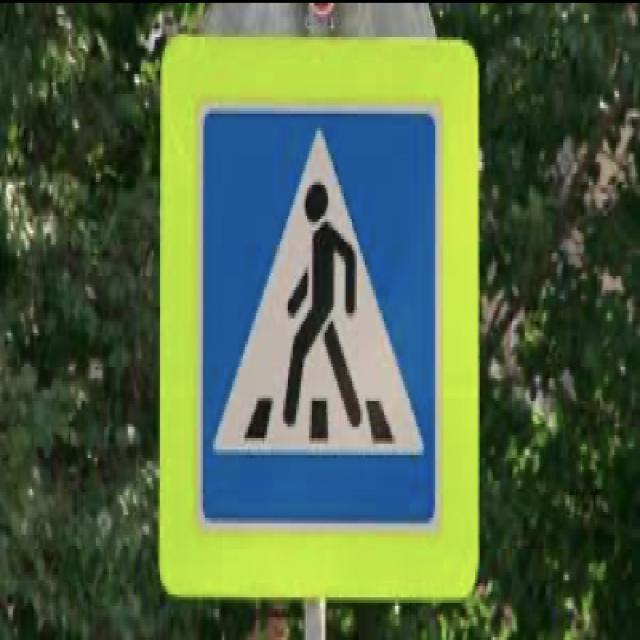crosswalk_sign: (197, 98, 444, 540)
